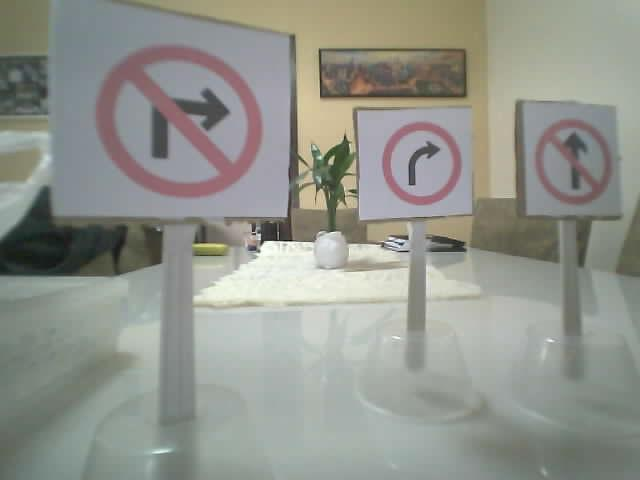R-25b_direita: (380, 121, 461, 205)
R-3_sentido-proibido: (535, 118, 612, 203)
R-4b_proibido-direita: (94, 44, 261, 197)
